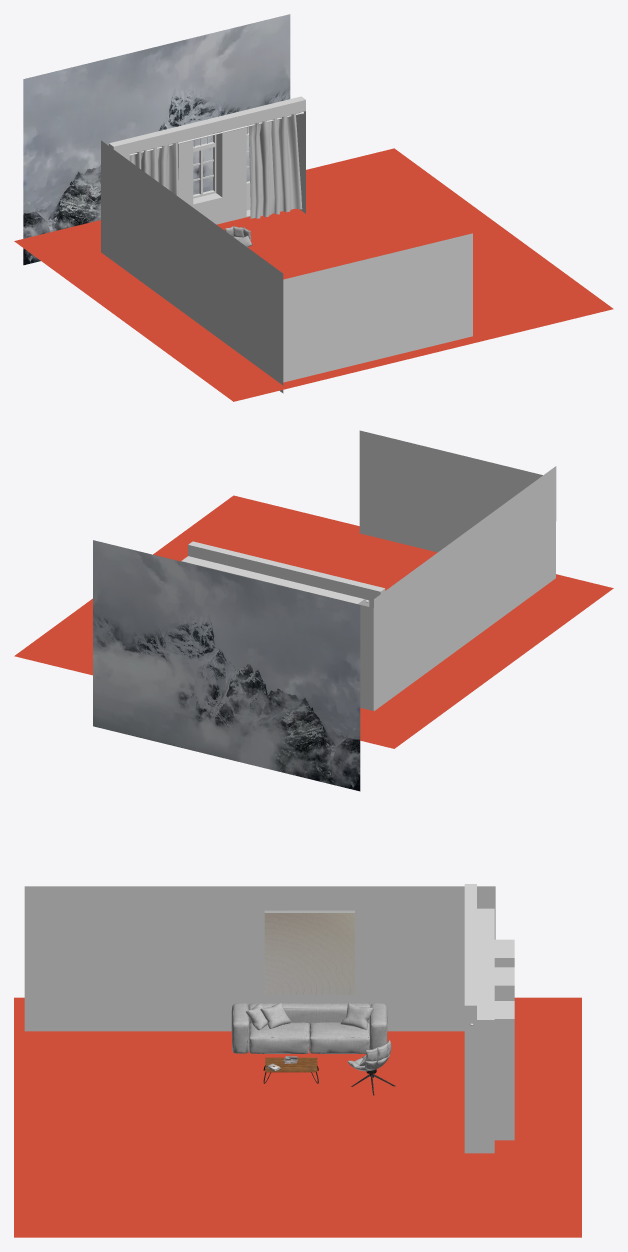
File: final_room.glb
3 renders of one model, top to bottom at view 1: azimuth 30°, elevation 25°; view 2: azimuth 150°, elevation 25°; view 3: azimuth 270°, elevation 25°, orthographic. The views are drawn at different scales.
Visible parts, largest first — view 1: Cube_Material_0, floor, Plane.003_Material.004_0, curtains2, Cube.007_Material.023_0; view 2: Plane.003_Material.004_0, Cube_Material_0, floor; view 3: floor, Cube_Material_0, Leather Sofa_Fabric.002_0, Plane.001_Material.013_0, Plane.002, Cube.034_Fabric.001_0, Cube.007_Material.023_0.
Boxes of the visible parts, x1,y1,x2,y2 form: Cube_Material_0: (101,96,472,393); floor: (14,148,613,401); Plane.003_Material.004_0: (23,14,290,265); curtains2: (129,112,303,218); Cube.007_Material.023_0: (193,125,252,247); Plane.003_Material.004_0: (93,540,360,791); Cube_Material_0: (181,430,556,710); floor: (14,495,613,748); floor: (14,997,581,1237); Cube_Material_0: (24,884,514,1153); Leather Sofa_Fabric.002_0: (231,1002,387,1053); Plane.001_Material.013_0: (264,913,354,994); Plane.002: (265,1057,317,1072); Cube.034_Fabric.001_0: (347,1040,391,1071); Cube.007_Material.023_0: (264,910,395,1095).
Bounding box in the file's own units: 32.81 × 15.35 × 34.66.
10 materials, 8 textured.
